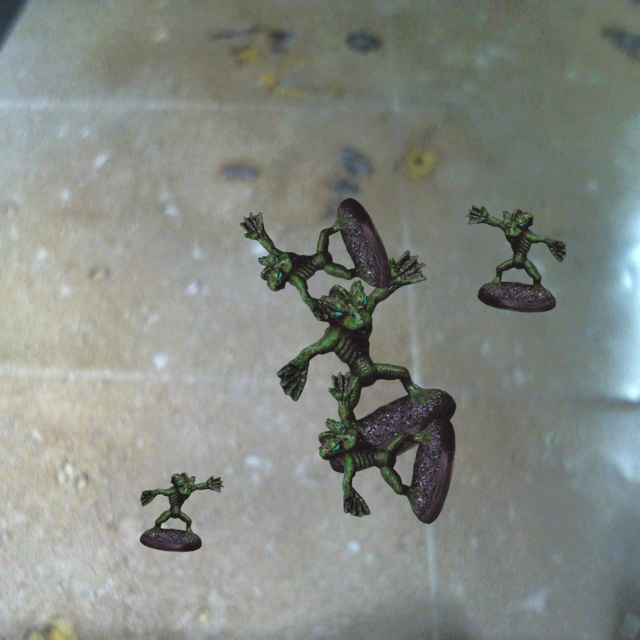pieza_juego: (277, 250, 455, 472), (318, 371, 455, 523), (240, 198, 391, 320), (466, 205, 566, 312), (140, 472, 223, 551)
